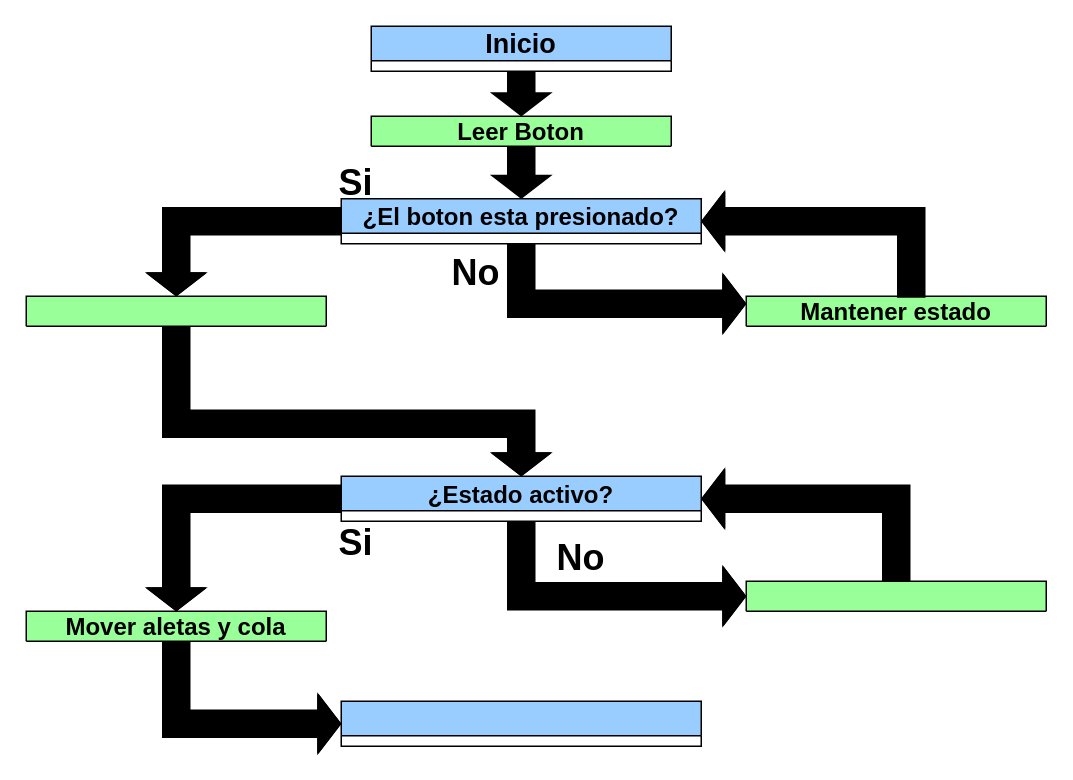
This 1073x780 diagram has some shape labels left out. The centre of each missing label's shape, as x and y in pixels:
Cambiar estado ON/OFF: (175,310)
Mantener posición neutra: (895,595)
Repetir ciclo: (520,723)
